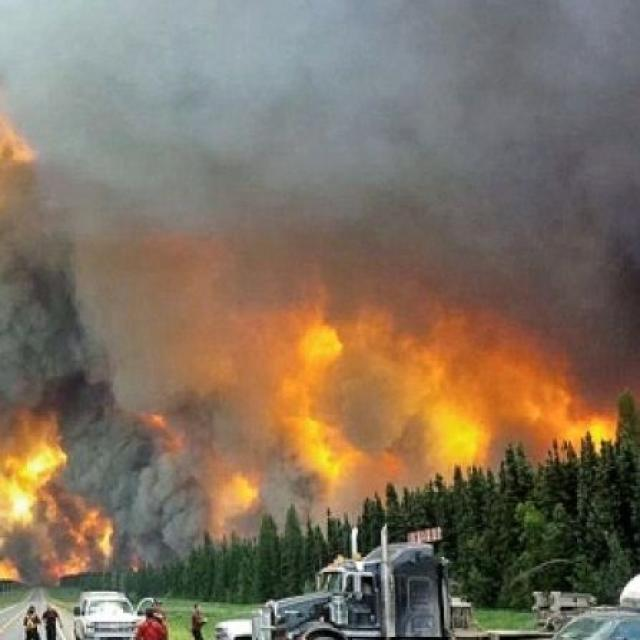Smoke: (0, 0, 629, 407), (54, 411, 430, 555)
